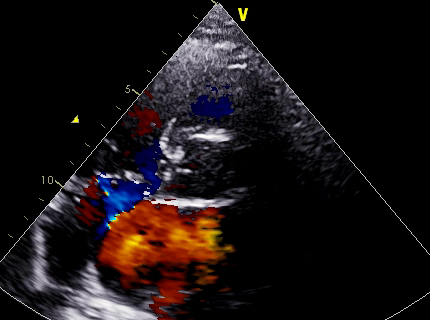TR: (92, 165, 166, 226)
